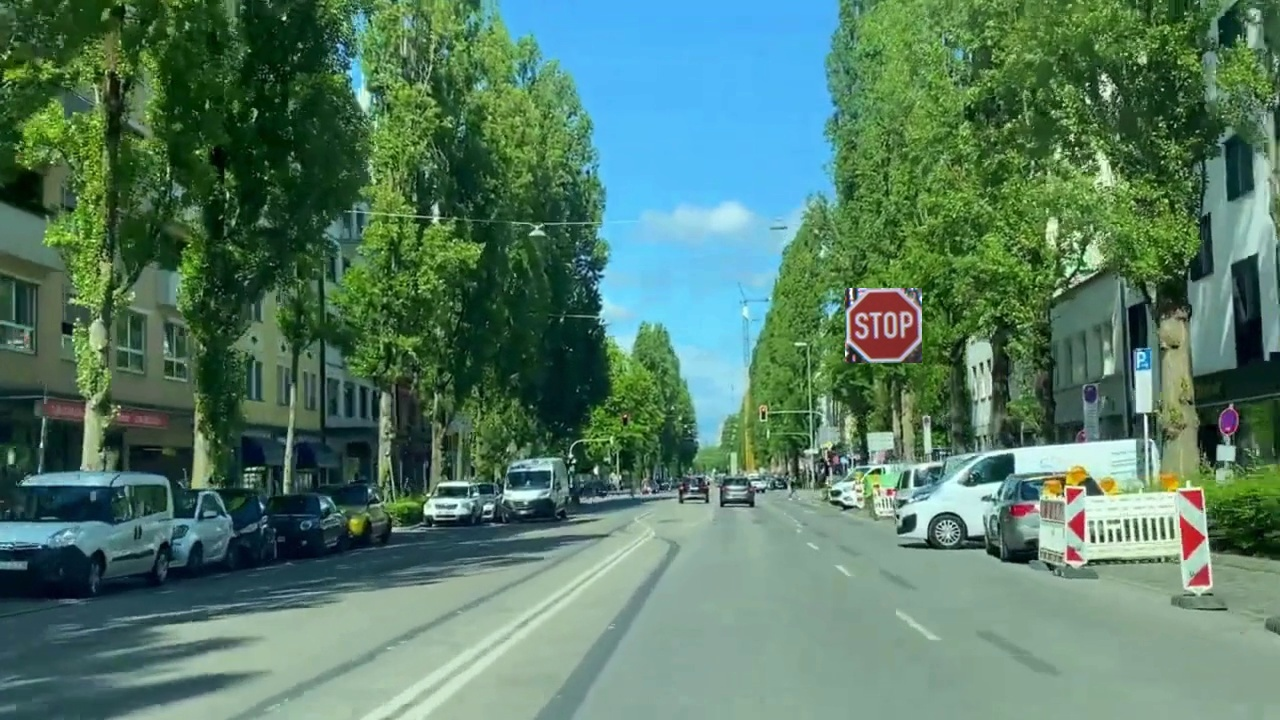Stop: (845, 288, 922, 363)
